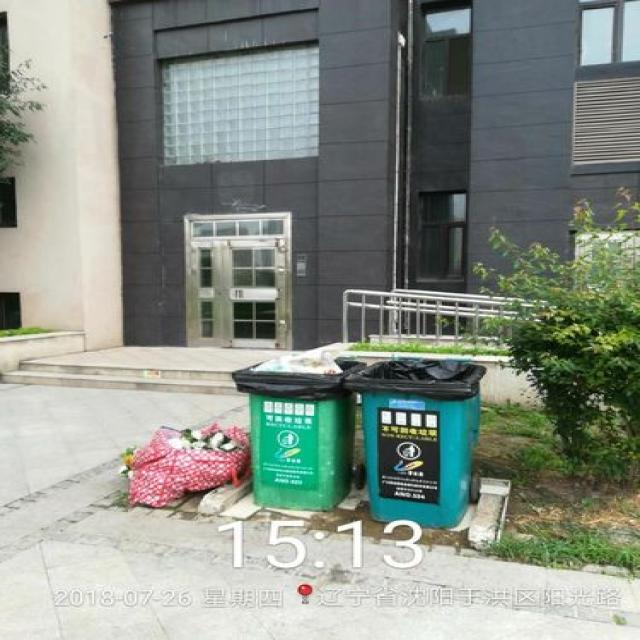garbage: (120, 424, 248, 507)
garbage_bin: (339, 356, 486, 528)
overflow: (228, 356, 364, 508)
